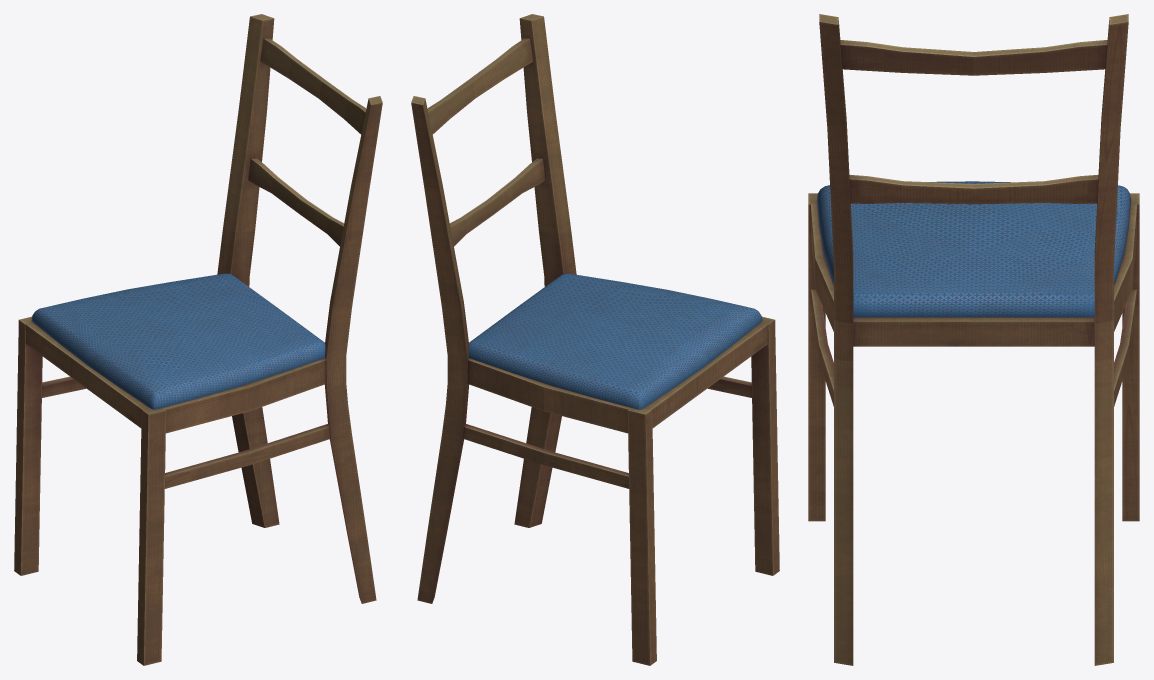
Rendered from chair.dae.
3 views of the same model, side by side, from view 1: azimuth 30°, elevation 25°; view 2: azimuth 150°, elevation 25°; view 3: azimuth 270°, elevation 25° (orthographic). The views are drawn at different scales.
Visible parts, largest first — view 1: Plane_Plane.001, Cube_Cube.003; view 2: Plane_Plane.001, Cube_Cube.003; view 3: Plane_Plane.001, Cube_Cube.003.
Boxes of the visible parts, x1,y1,x2,y2 form: Plane_Plane.001: [14, 14, 382, 665]; Cube_Cube.003: [31, 273, 325, 409]; Plane_Plane.001: [411, 14, 779, 665]; Cube_Cube.003: [468, 273, 762, 409]; Plane_Plane.001: [808, 14, 1139, 665]; Cube_Cube.003: [817, 181, 1130, 317].
Bounding box in the file's own units: 2.28 × 2.05 × 4.39.
Materials: 2 (2 with a texture image).
